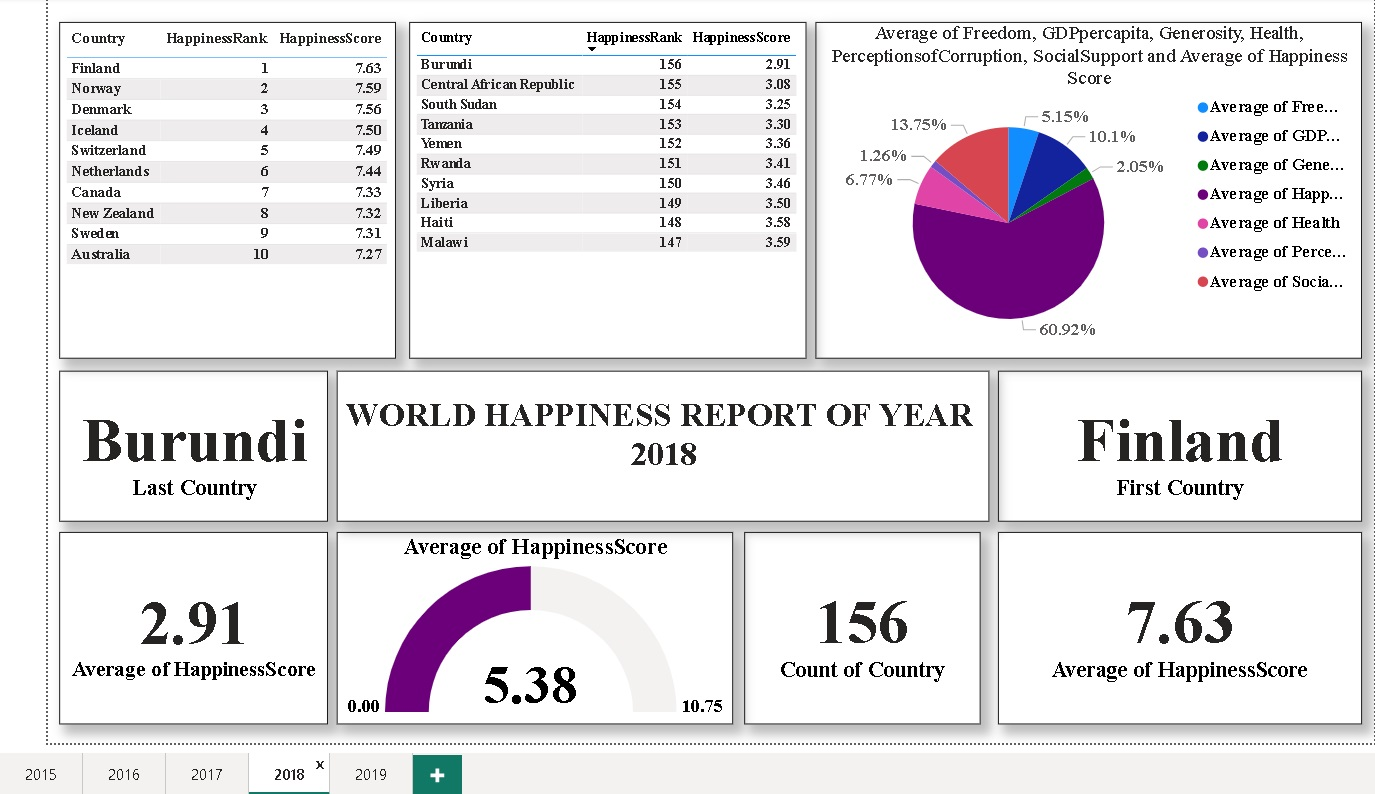

Layout of this report page (visuals, bound fields, positions):
{"tool":"powerbi","page":{"name":"2018","canvas":[1280,720],"ordinal":3},"visuals":[{"type":"card","fields":{"Values":["Min(processedhwr2018.Country)"]},"box":[916.6,360.6,351,145.9],"z":0},{"type":"card","fields":{"Values":["Count(processedhwr2018.Country)"]},"box":[671.8,516.2,227.9,185.7],"z":1000},{"type":"card","fields":{"Values":["Max(processedhwr2018.Country)"]},"box":[10.9,360.6,259.3,145.9],"z":2000},{"type":"card","fields":{"Values":["Avg(processedhwr2018.HappinessScore)"]},"box":[916.6,516.2,351,185.7],"z":3000},{"type":"card","fields":{"Values":["Avg(processedhwr2018.HappinessScore)"]},"box":[10.9,516.2,259.3,185.7],"z":4000},{"type":"tableEx","fields":{"Values":["processedhwr2018.Country","processedhwr2018.HappinessRank","processedhwr2018.HappinessScore"]},"box":[10.9,24.1,324.4,324.4],"z":5000},{"type":"pieChart","title":"Average of Freedom, GDPpercapita, Generosity, Health, PerceptionsofCorruption, SocialSupport and Average of Happiness Score","fields":{"Y":["Avg(processedhwr2018.Freedom)","Avg(processedhwr2018.GDPpercapita)","Avg(processedhwr2018.Generosity)","Avg(processedhwr2018.HappinessScore)","Avg(processedhwr2018.Health)","Avg(processedhwr2018.PerceptionsofCorruption)","Avg(processedhwr2018.SocialSupport)"]},"box":[740.5,24.1,527,324.4],"z":6000},{"type":"tableEx","fields":{"Values":["processedhwr2018.Country","processedhwr2018.HappinessRank","processedhwr2018.HappinessScore"]},"box":[348.5,24.1,383.5,324.4],"z":7000},{"type":"gauge","fields":{"Y":["Avg(processedhwr2018.HappinessScore)"]},"box":[278.6,516.2,382.3,185.7],"z":8000},{"type":"textbox","box":[278.6,360.6,629.5,145.9],"z":9000}]}

Visuals, with their boxes on the page's 1280x720 design canvas (x1, y1, x2, y2). These are canvas units, not pixel positions in the 1375x794 screenshot, which may show the page scaled, cropped or inside an application window:
card - Min(processedhwr2018.Country): (917,361,1268,506)
card - Count(processedhwr2018.Country): (672,516,900,702)
card - Max(processedhwr2018.Country): (11,361,270,506)
card - Avg(processedhwr2018.HappinessScore): (917,516,1268,702)
card - Avg(processedhwr2018.HappinessScore): (11,516,270,702)
tableEx - processedhwr2018.Country x processedhwr2018.HappinessRank: (11,24,335,348)
"Average of Freedom, GDPpercapita, Generosity, Health, PerceptionsofCorruption, SocialSupport and Average of Happiness Score" pieChart: (740,24,1268,348)
tableEx - processedhwr2018.Country x processedhwr2018.HappinessRank: (348,24,732,348)
gauge - Avg(processedhwr2018.HappinessScore): (279,516,661,702)
textbox: (279,361,908,506)
